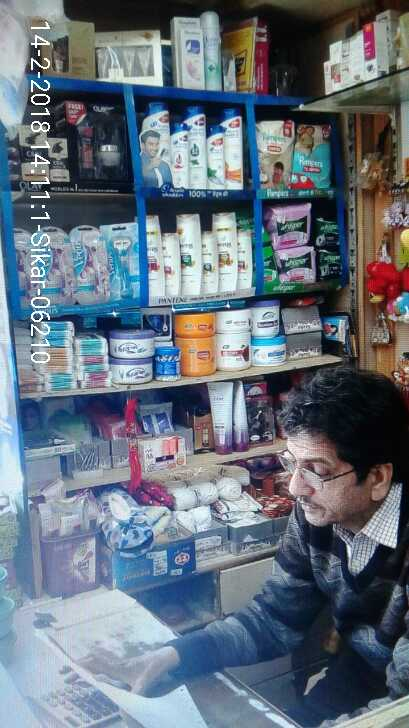venus: (42, 232, 74, 308), (110, 221, 140, 301), (13, 231, 42, 307), (74, 232, 106, 300)
